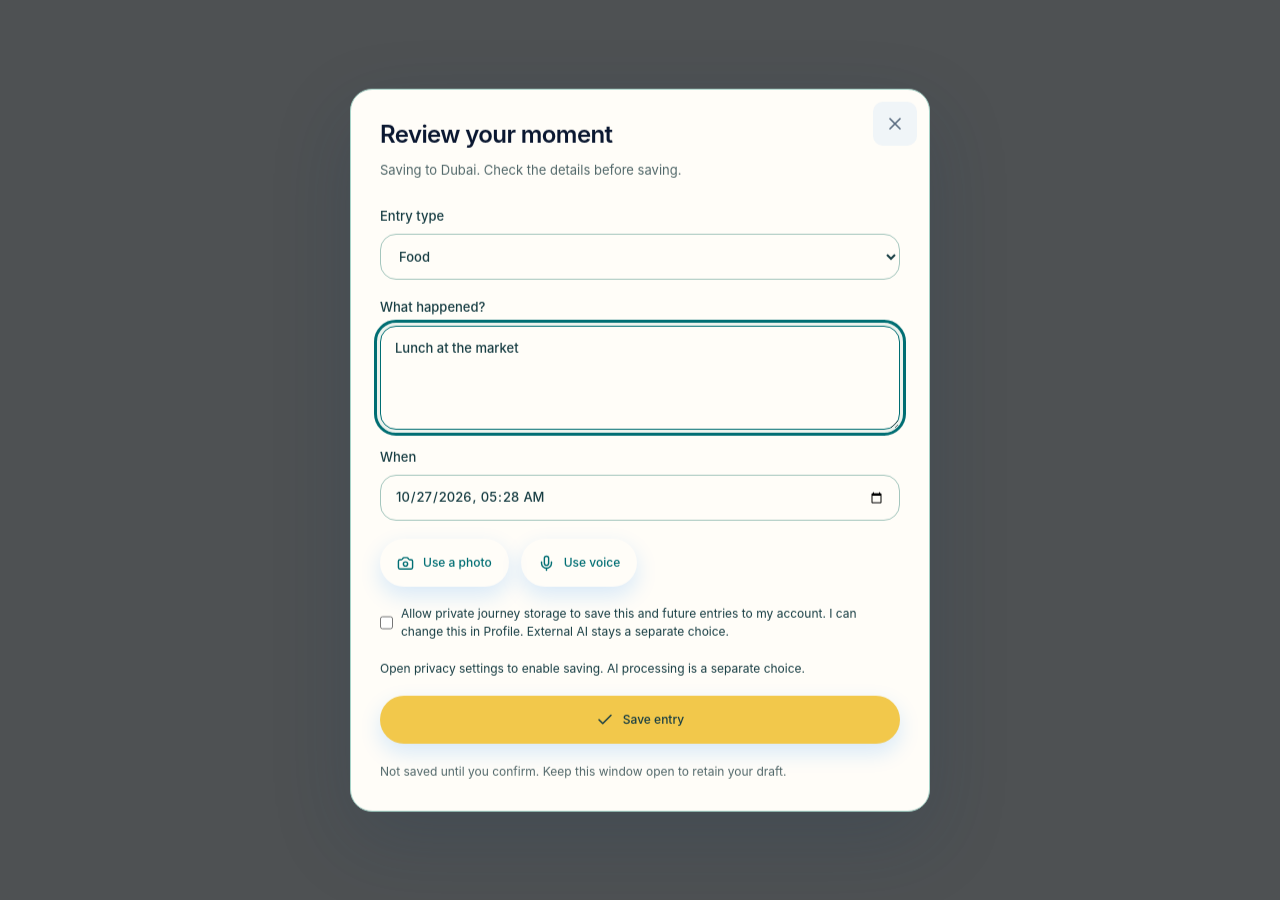
Test case: does not use AI or save without private storage consent
Click the button "Save entry". click: [640, 720]
box: x1=380 y1=696 x2=900 y2=744
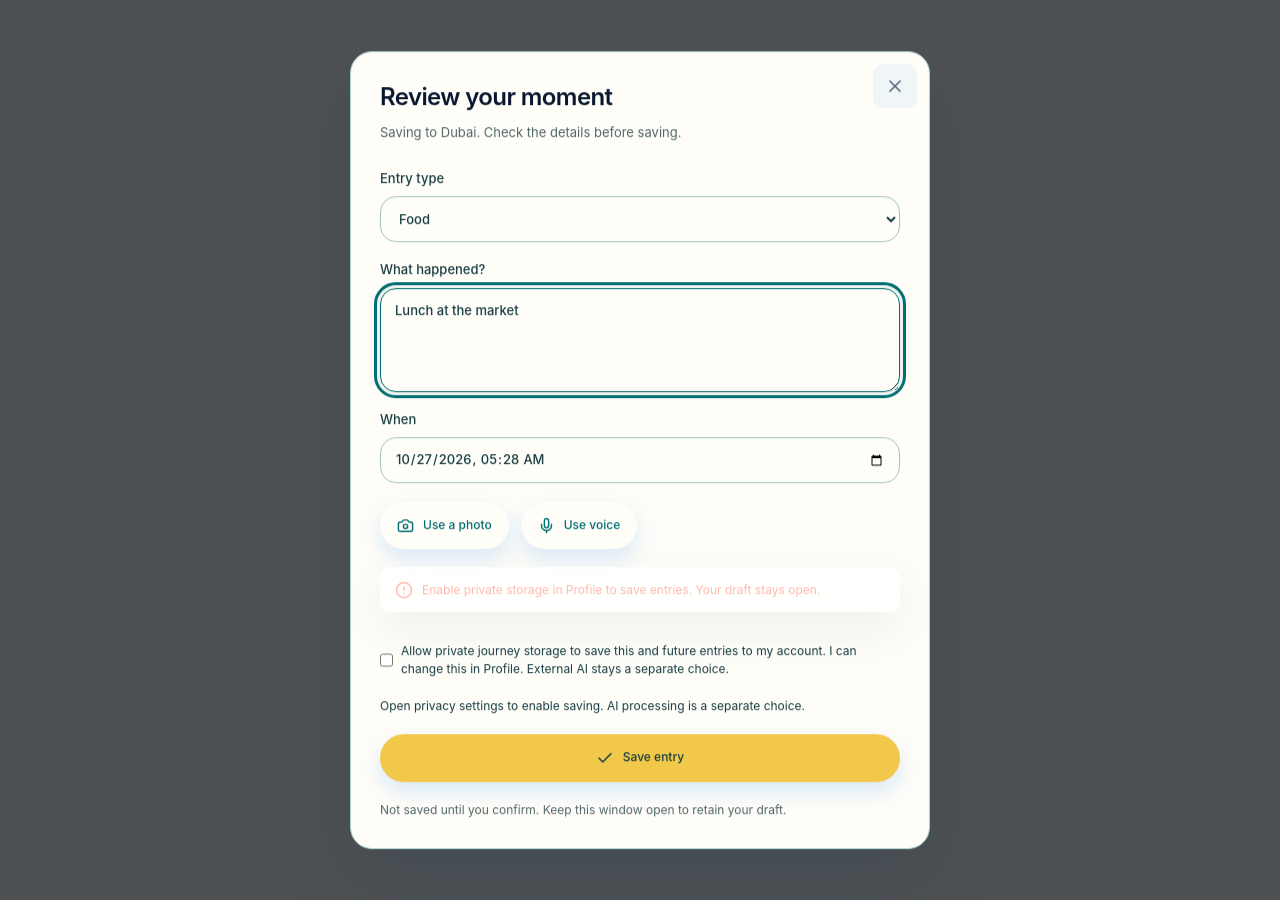
Expected: the message "Enable private storage in Profile to save entries. Your draft stays open." is shown, x1=380 y1=567 x2=900 y2=612
